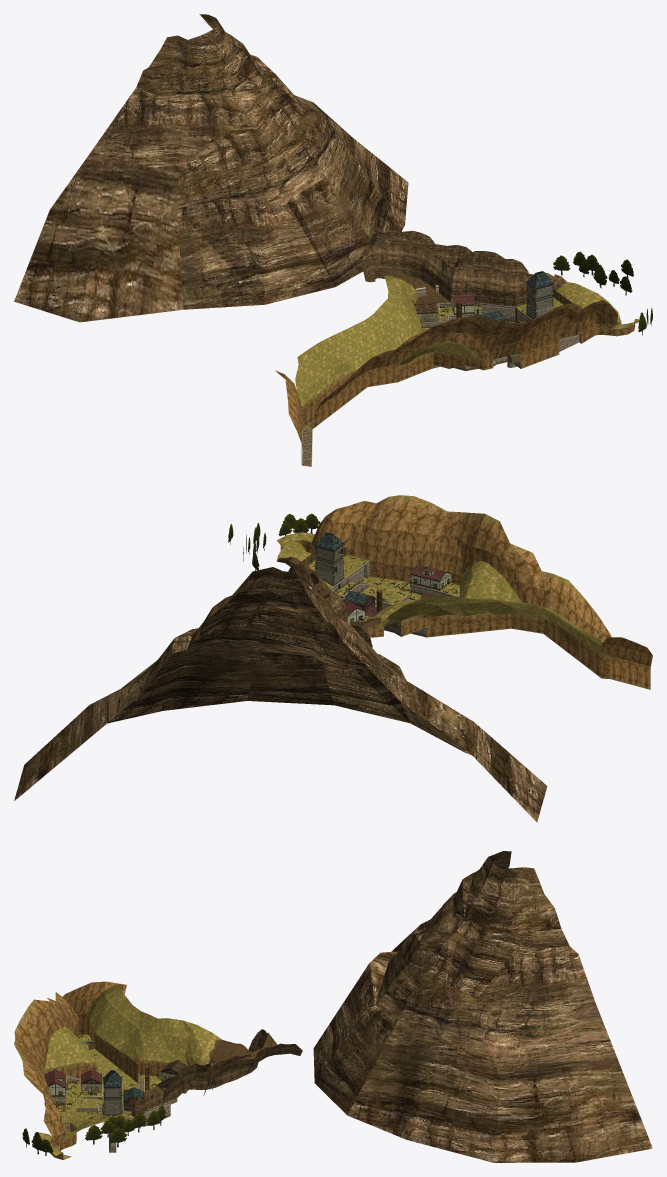
File: kakariko.glb
3 views of the same model, one above another, from view 1: azimuth 30°, elevation 25°; view 2: azimuth 150°, elevation 25°; view 3: azimuth 270°, elevation 25° (orthographic). The views are drawn at different scales.
Parts seen in each view (by area): view 1: obj7, obj8, obj6, obj17, obj5, obj1, obj13, obj18; view 2: obj7, obj8, obj6, obj18, obj5, obj17, obj13, obj15, obj1; view 3: obj7, obj6, obj8, obj17, obj1, obj18, obj5, obj13.
Boxes of the visible parts, left/top/right/bottom form: obj7: left=14, top=14, right=566, bottom=322; obj8: left=275, top=298, right=635, bottom=464; obj6: left=295, top=276, right=639, bottom=429; obj17: left=553, top=251, right=652, bottom=335; obj5: left=416, top=286, right=581, bottom=370; obj1: left=366, top=236, right=533, bottom=303; obj13: left=525, top=279, right=554, bottom=320; obj18: left=414, top=271, right=554, bottom=359; obj7: left=14, top=556, right=547, bottom=822; obj8: left=280, top=495, right=652, bottom=689; obj6: left=276, top=532, right=609, bottom=656; obj18: left=315, top=532, right=450, bottom=626; obj5: left=330, top=560, right=455, bottom=637; obj17: left=228, top=513, right=320, bottom=570; obj13: left=314, top=541, right=344, bottom=590; obj15: left=320, top=569, right=450, bottom=623; obj1: left=289, top=557, right=390, bottom=646; obj7: left=131, top=851, right=652, bottom=1162; obj6: left=38, top=984, right=211, bottom=1159; obj8: left=14, top=981, right=204, bottom=1159; obj17: left=22, top=1105, right=165, bottom=1155; obj1: left=143, top=1033, right=277, bottom=1098; obj18: left=44, top=1068, right=182, bottom=1107; obj5: left=52, top=1074, right=212, bottom=1132; obj13: left=82, top=1069, right=177, bottom=1114.
Bounding box in the file's own units: 9891 × 5102 × 11991.
Materials: 29 (29 with a texture image).
